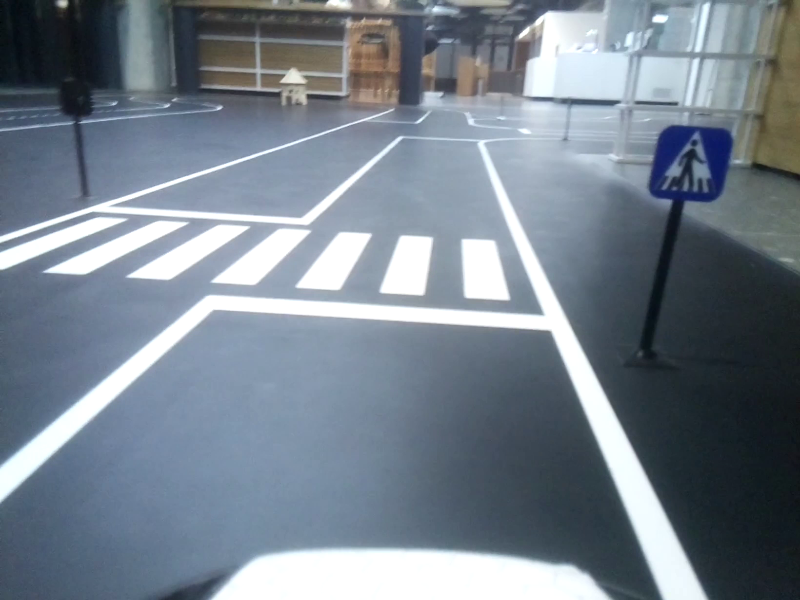pedestrian: (652, 124, 727, 199)
